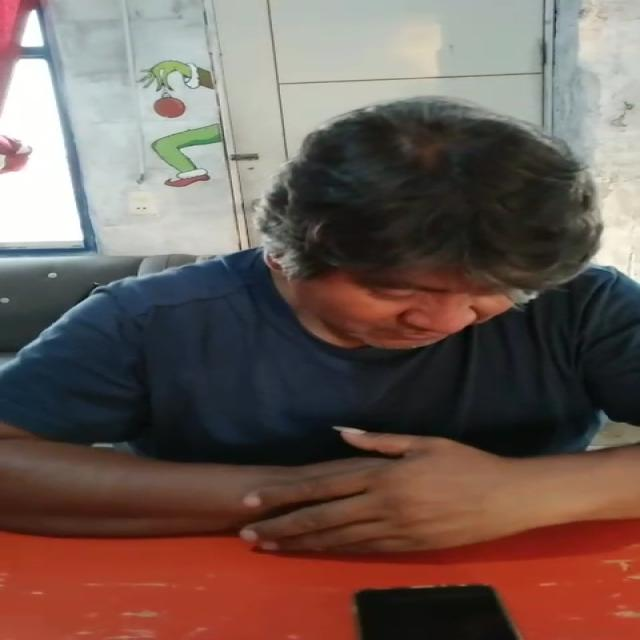9_cabeza_baja: (260, 101, 596, 352)
